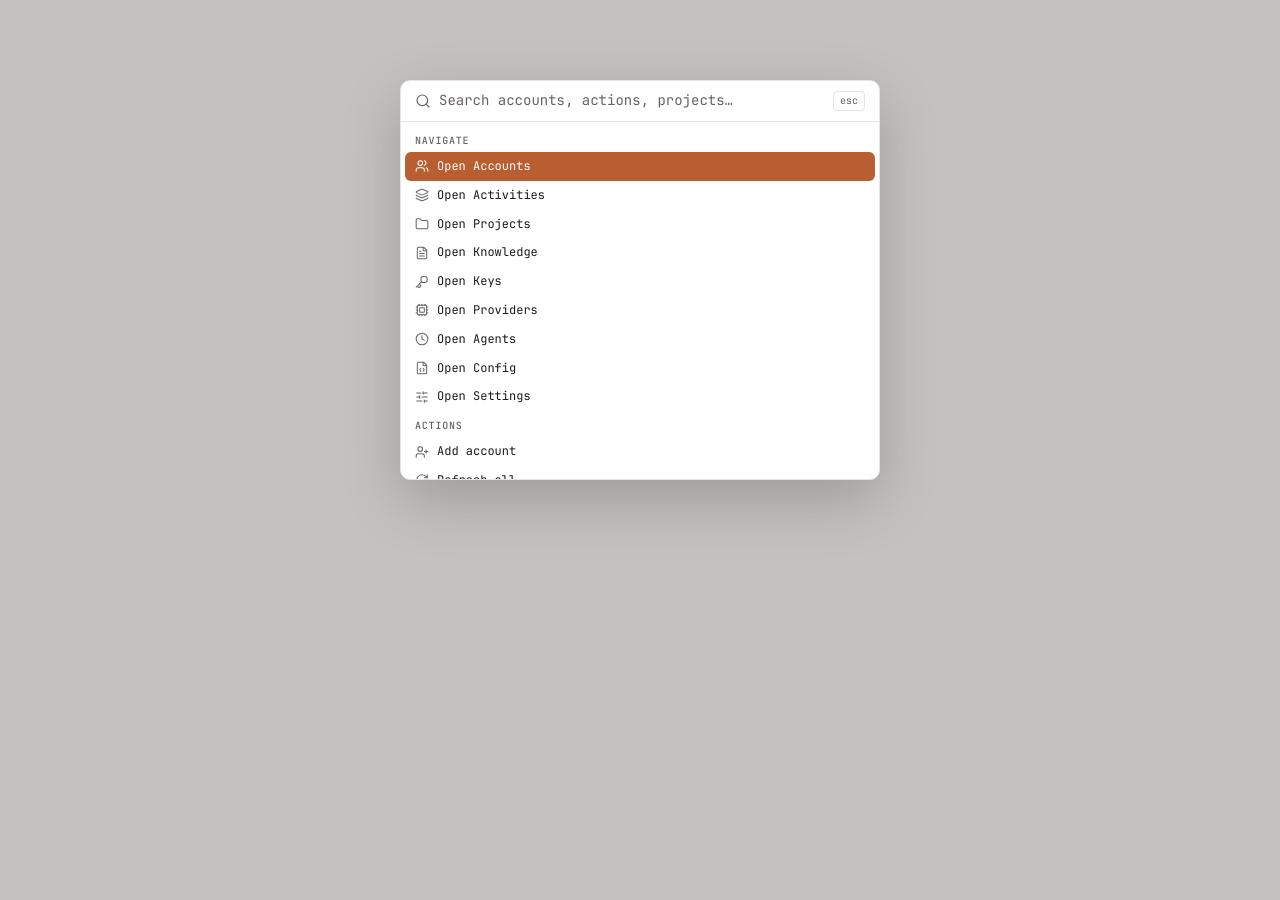
CommandPalette — project search › degrades to an empty state when the project list fails
The image size is (1280, 900).
Type "claudepot" into the dropdown. click: {"x": 632, "y": 101}
box: x1=439 y1=91 x2=825 y2=111
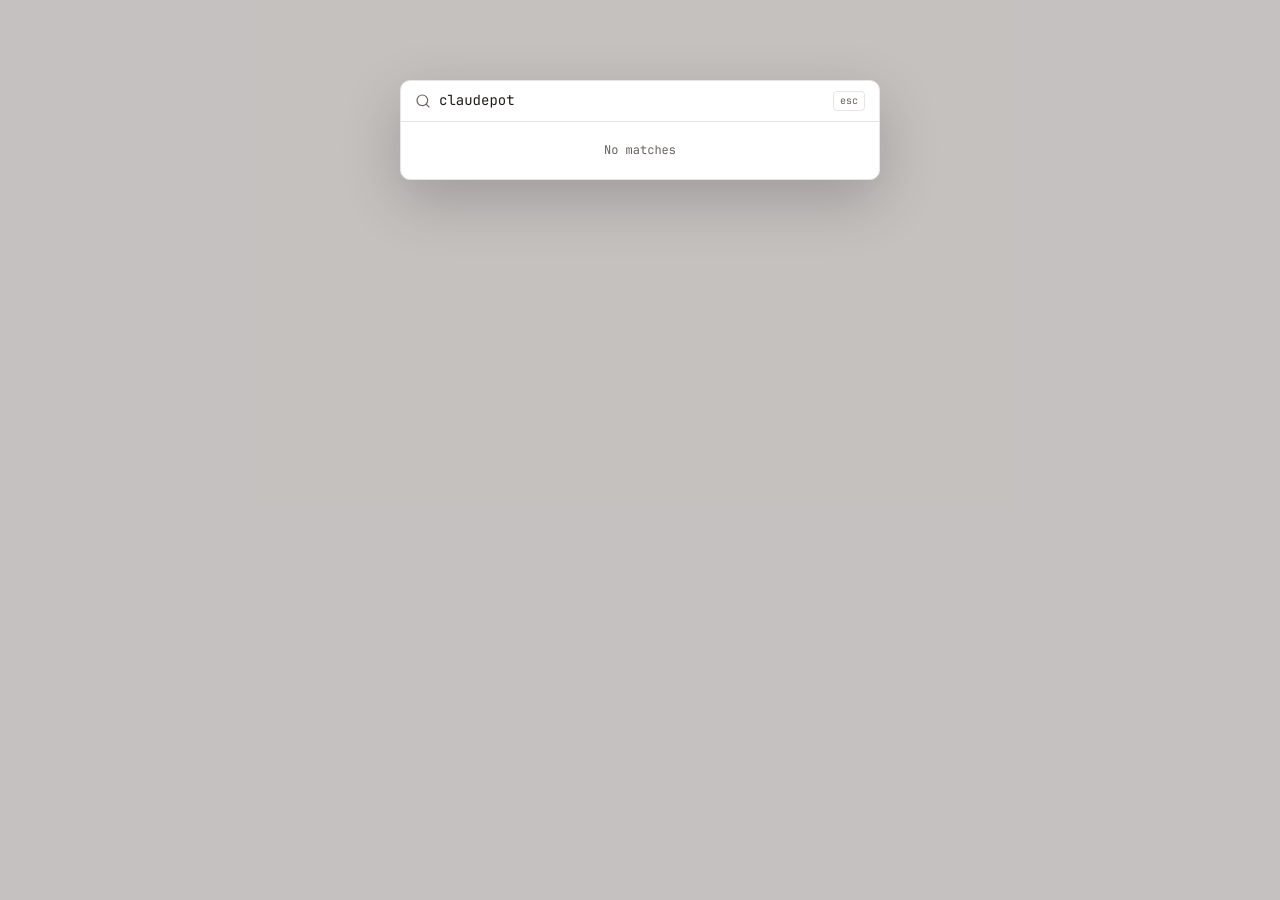
Expected: the list item "No matches" is shown, x1=604 y1=142 x2=676 y2=158
